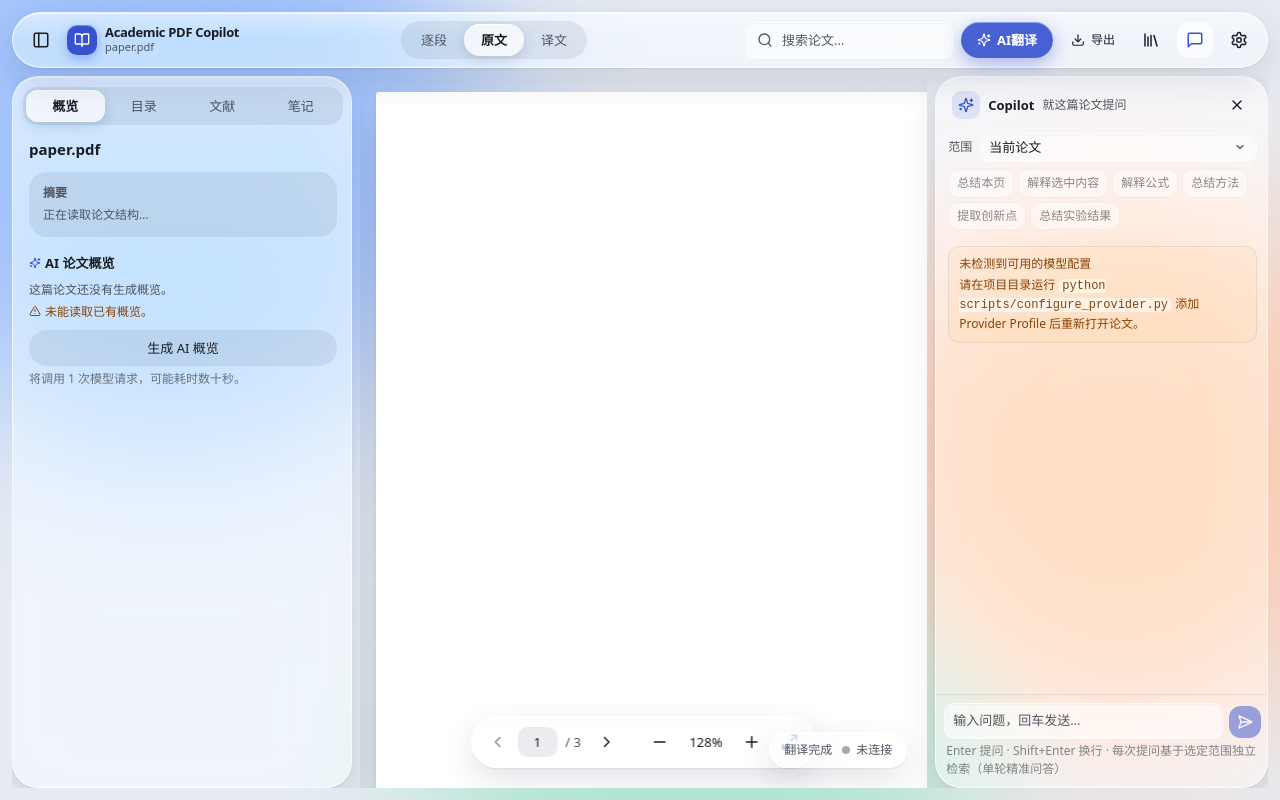
Test: DS-FE-003 · AC-32 reader mode switching › renders only the translated panel in 译文 mode (AC-P0-10)
Click the tab with test id "reader-mode-translation". click: (554, 40)
box: [524,24,584,56]
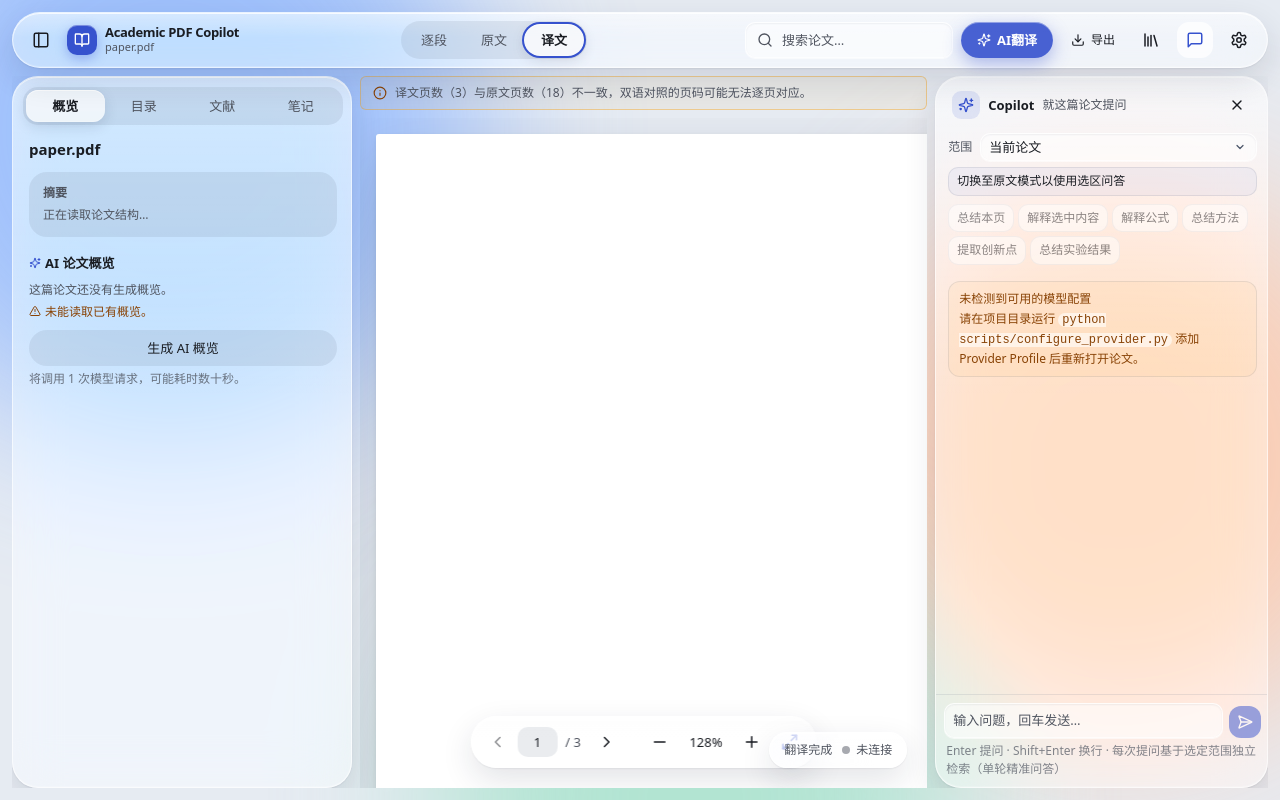
Expected: the element with test id "viewer-translated" is shown, [360,118,927,788]
Now the element with test id "viewer-original" is gone
